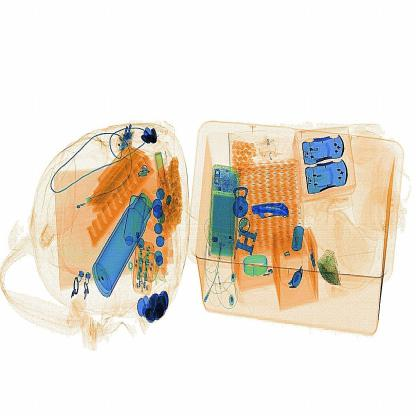knife: (253, 198, 292, 226)
